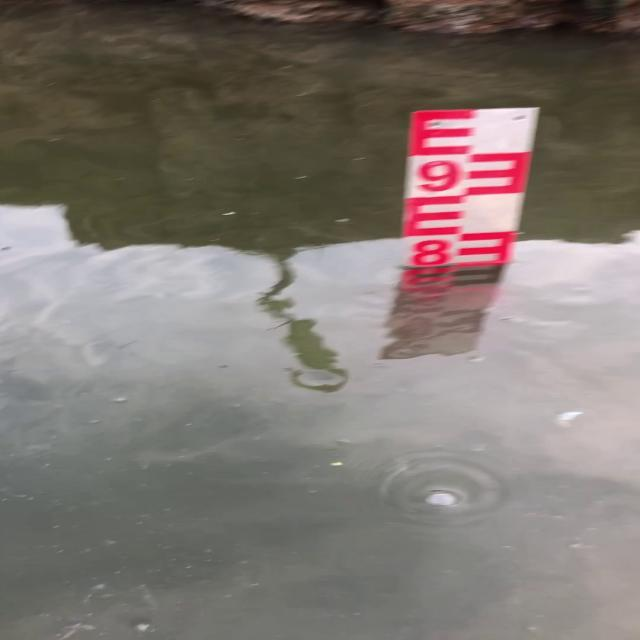ruler: (396, 96, 556, 287)
value: (407, 153, 468, 202), (402, 233, 460, 270)
